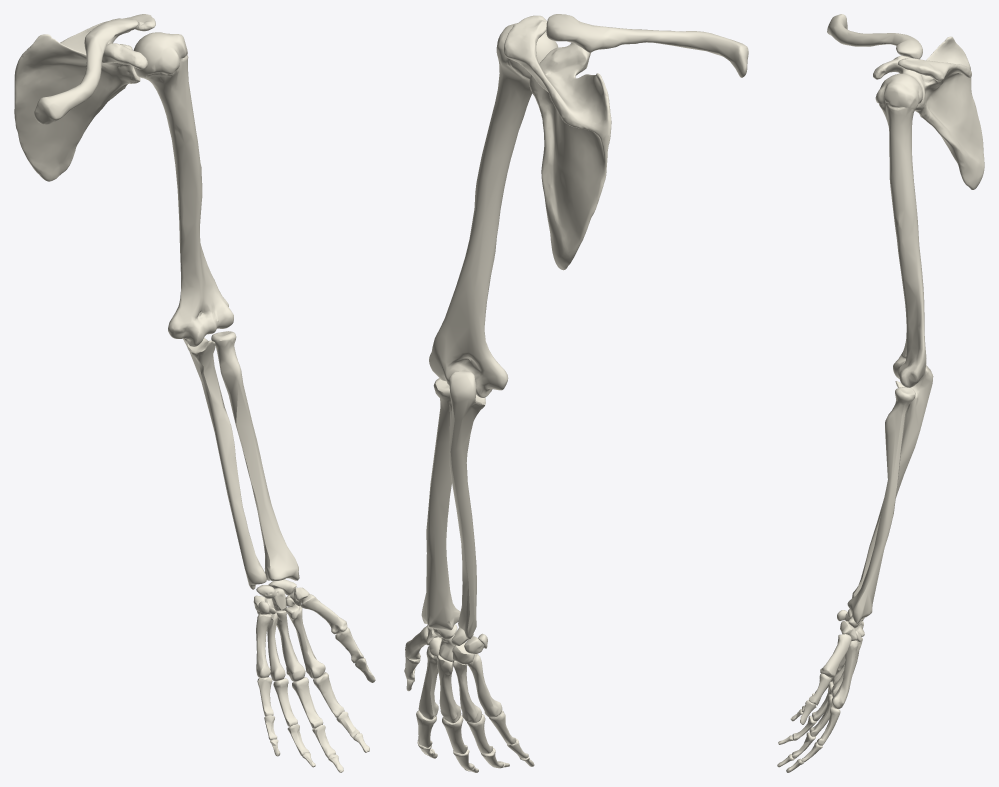
The model's file is arm-left.glb.
3 renders of one model, left to right at view 1: azimuth 30°, elevation 25°; view 2: azimuth 150°, elevation 25°; view 3: azimuth 270°, elevation 25°, orthographic. The views are drawn at different scales.
Parts seen in each view (by area): view 1: bp3d_FMA23131_FJ3262, bp3d_FMA13396_FJ3279, bp3d_FMA23465_FJ3277, bp3d_FMA23468_FJ3286, bp3d_FMA13323_FJ3237, bp3d_FMA24467_FJ3243, bp3d_FMA24469_FJ3246, bp3d_FMA24473_FJ3252, bp3d_FMA24465_FJ3240, bp3d_FMA24471_FJ3249, bp3d_FMA71908_FJ3316; view 2: bp3d_FMA13396_FJ3279, bp3d_FMA23131_FJ3262, bp3d_FMA23465_FJ3277, bp3d_FMA23468_FJ3286, bp3d_FMA13323_FJ3237, bp3d_FMA24469_FJ3246, bp3d_FMA24467_FJ3243, bp3d_FMA24473_FJ3252, bp3d_FMA24471_FJ3249; view 3: bp3d_FMA23131_FJ3262, bp3d_FMA13396_FJ3279, bp3d_FMA23465_FJ3277, bp3d_FMA23468_FJ3286, bp3d_FMA13323_FJ3237, bp3d_FMA24467_FJ3243, bp3d_FMA24465_FJ3240.
Boxes of the visible parts, left/top/right/bottom form: bp3d_FMA23131_FJ3262: left=133, top=32, right=233, bottom=346; bp3d_FMA13396_FJ3279: left=14, top=14, right=155, bottom=181; bp3d_FMA23465_FJ3277: left=211, top=331, right=299, bottom=580; bp3d_FMA23468_FJ3286: left=183, top=337, right=266, bottom=589; bp3d_FMA13323_FJ3237: left=34, top=18, right=138, bottom=124; bp3d_FMA24467_FJ3243: left=285, top=604, right=325, bottom=678; bp3d_FMA24469_FJ3246: left=276, top=610, right=305, bottom=681; bp3d_FMA24473_FJ3252: left=256, top=614, right=271, bottom=677; bp3d_FMA24465_FJ3240: left=301, top=594, right=347, bottom=634; bp3d_FMA24471_FJ3249: left=267, top=613, right=285, bottom=681; bp3d_FMA71908_FJ3316: left=292, top=677, right=323, bottom=728; bp3d_FMA13396_FJ3279: left=503, top=15, right=611, bottom=270; bp3d_FMA23131_FJ3262: left=429, top=23, right=558, bottom=397; bp3d_FMA23465_FJ3277: left=421, top=378, right=460, bottom=630; bp3d_FMA23468_FJ3286: left=449, top=370, right=485, bottom=639; bp3d_FMA13323_FJ3237: left=546, top=14, right=748, bottom=77; bp3d_FMA24469_FJ3246: left=436, top=655, right=461, bottom=723; bp3d_FMA24467_FJ3243: left=418, top=646, right=438, bottom=719; bp3d_FMA24473_FJ3252: left=467, top=654, right=502, bottom=717; bp3d_FMA24471_FJ3249: left=453, top=660, right=482, bottom=722; bp3d_FMA23131_FJ3262: left=875, top=73, right=926, bottom=387; bp3d_FMA13396_FJ3279: left=873, top=36, right=984, bottom=189; bp3d_FMA23465_FJ3277: left=847, top=387, right=915, bottom=623; bp3d_FMA23468_FJ3286: left=851, top=365, right=933, bottom=598; bp3d_FMA13323_FJ3237: left=827, top=14, right=922, bottom=59; bp3d_FMA24467_FJ3243: left=832, top=640, right=857, bottom=708; bp3d_FMA24465_FJ3240: left=820, top=634, right=851, bottom=677.
Bounding box in the file's own units: 0.3156 × 0.7018 × 0.2002.
